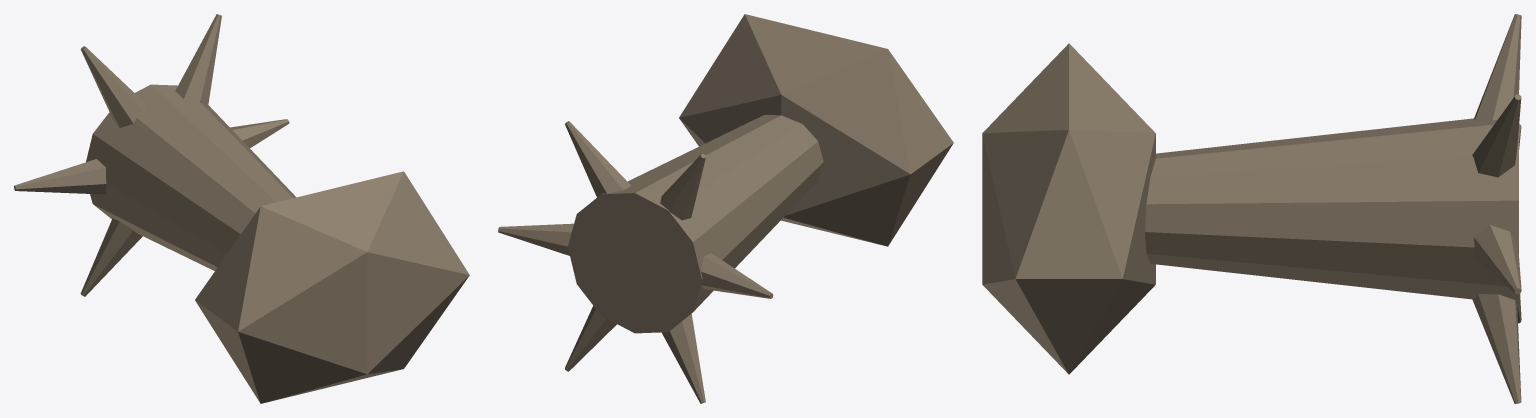
The model's file is FOREST_GREAT_TREE_MODULE.glb.
3 renders of one model, left to right at view 1: azimuth 30°, elevation 25°; view 2: azimuth 150°, elevation 25°; view 3: azimuth 270°, elevation 25°, orthographic. The views are drawn at different scales.
Parts seen in each view (by area): view 1: FOREST_GREAT_TREE_MODULE; view 2: FOREST_GREAT_TREE_MODULE; view 3: FOREST_GREAT_TREE_MODULE.
Part boxes in pixels (box(x1,y1,x2,y2)): FOREST_GREAT_TREE_MODULE: box(14, 14, 469, 403); FOREST_GREAT_TREE_MODULE: box(498, 14, 953, 403); FOREST_GREAT_TREE_MODULE: box(982, 14, 1521, 403).
Size of the model in its own units: 13.05 by 11.38 by 17.98.
